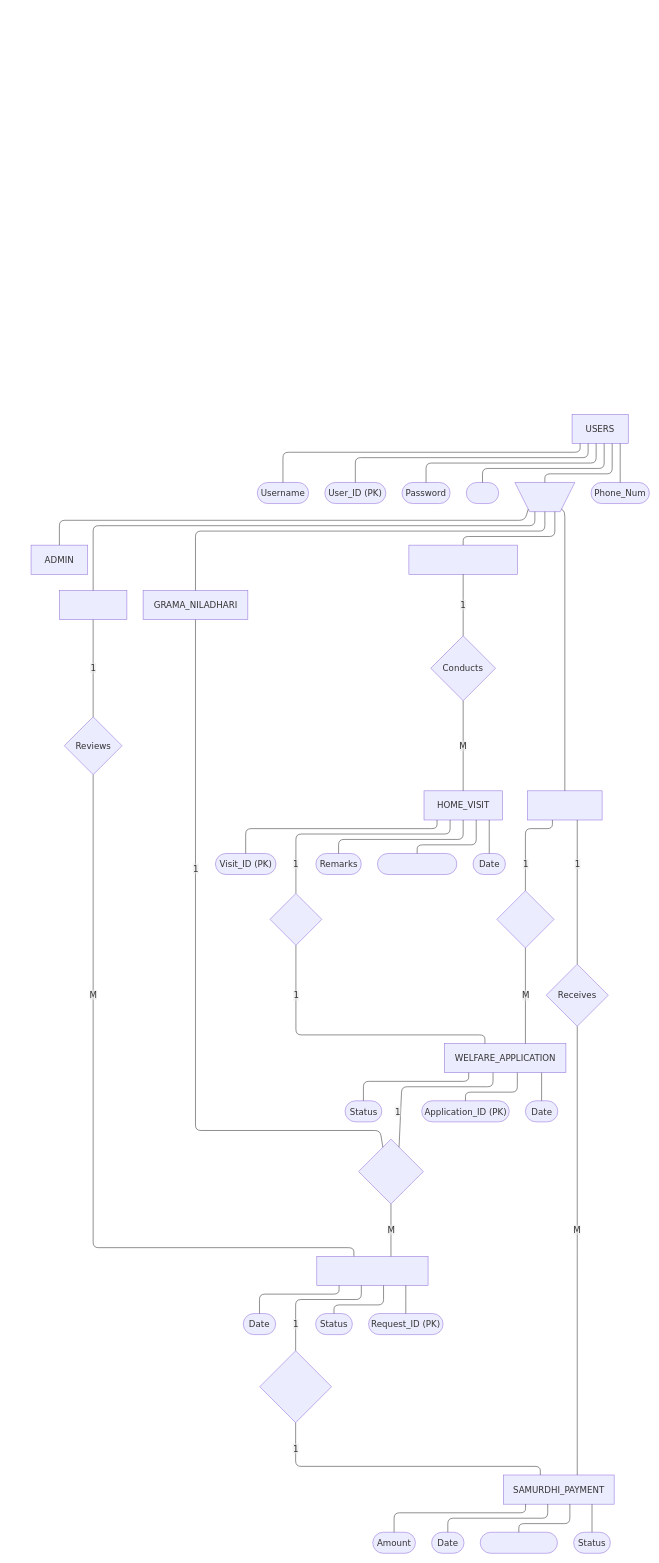
Image size: 659x1563. Some labels were removed from this diagram. Here are the shapes that lost their labels. From the top down, the box of each, then its label:
(466, 482, 499, 504): Role
(514, 482, 575, 512): IS-A
(408, 545, 517, 574): SAMURDHI_OFFICER
(59, 590, 127, 620): MINISTER
(527, 790, 602, 820): APPLICANT
(377, 853, 457, 875): Recommendation
(269, 893, 322, 945): Checks
(496, 890, 554, 948): Submits
(358, 1139, 423, 1204): Forwards
(316, 1256, 428, 1285): MINISTER_APPROVAL
(259, 1350, 332, 1423): Generates
(480, 1532, 557, 1553): Payment_ID (PK)
